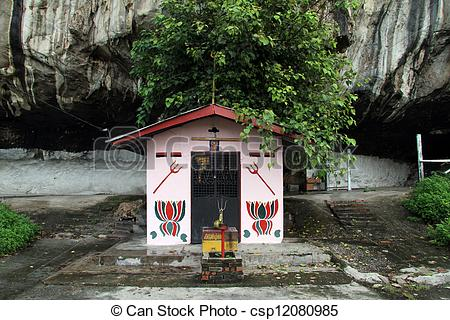Hindu Temple: (122, 89, 286, 237)
